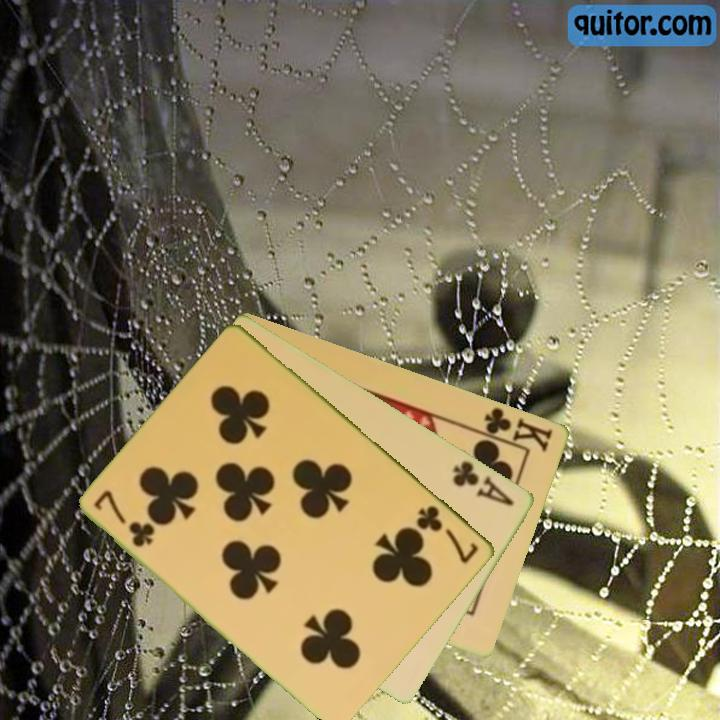7c: (413, 501, 482, 566), (90, 486, 159, 551)
Ac: (449, 457, 517, 509)
Kc: (472, 403, 556, 455)
